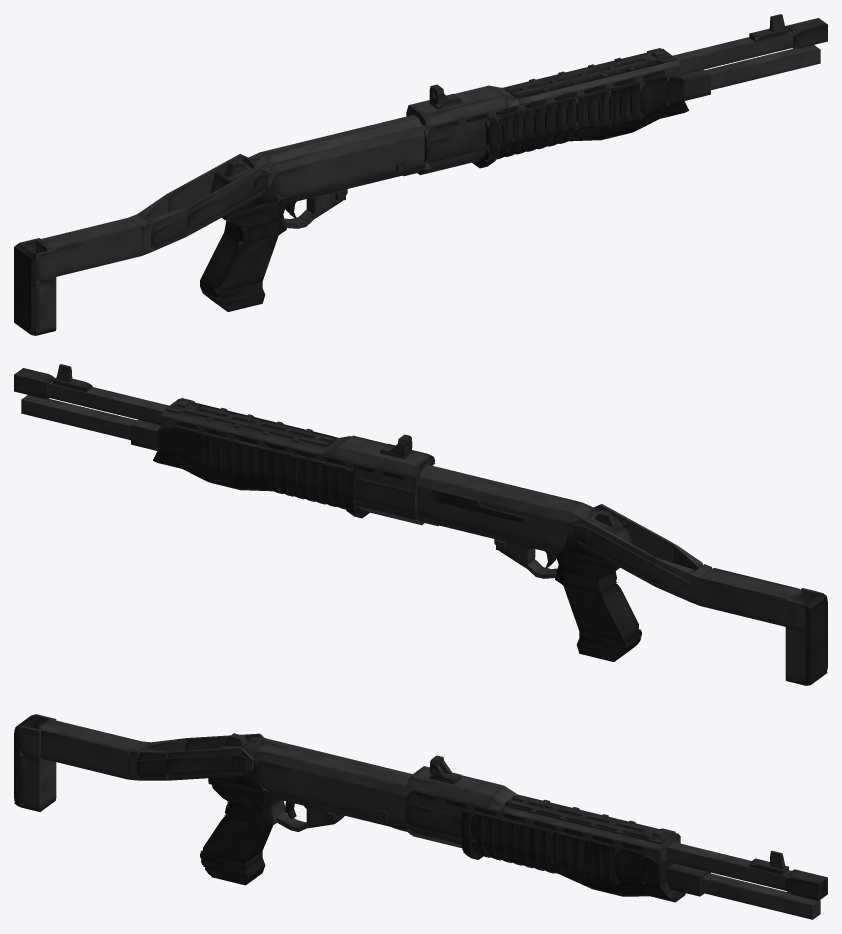
File: spas12.obj
3 renders of one model, top to bottom at view 1: azimuth 30°, elevation 25°; view 2: azimuth 150°, elevation 25°; view 3: azimuth 330°, elevation 25°, orthographic.
Visible parts, largest first — view 1: gunModel102, gunModel104, gunModel40, gunModel14, gunModel2, gunModel13, gunModel10, gunModel8, gunModel12, gunModel121, gunModel1, gunModel19 (+18 smaller); view 2: gunModel104, gunModel102, gunModel40, gunModel14, gunModel2, gunModel13, gunModel12, gunModel10, gunModel121, gunModel8, gunModel1, gunModel123 (+17 smaller); view 3: gunModel102, gunModel104, gunModel14, gunModel13, gunModel2, gunModel40, gunModel10, gunModel8, gunModel12, gunModel119, gunModel1, gunModel19 (+31 smaller).
Boxes of the visible parts, left/top/right/bottom form: gunModel102: left=270, top=136, right=425, bottom=199; gunModel104: left=35, top=218, right=141, bottom=276; gunModel40: left=200, top=232, right=278, bottom=292; gunModel14: left=705, top=45, right=820, bottom=90; gunModel2: left=260, top=114, right=424, bottom=164; gunModel13: left=673, top=30, right=801, bottom=74; gunModel10: left=502, top=48, right=680, bottom=104; gunModel8: left=406, top=66, right=680, bottom=169; gunModel12: left=406, top=85, right=506, bottom=127; gunModel121: left=14, top=243, right=36, bottom=334; gunModel1: left=264, top=127, right=425, bottom=173; gunModel19: left=496, top=97, right=575, bottom=146; gunModel104: left=700, top=568, right=806, bottom=626; gunModel102: left=417, top=486, right=569, bottom=549; gunModel40: left=563, top=583, right=641, bottom=642; gunModel14: left=21, top=395, right=136, bottom=440; gunModel2: left=419, top=464, right=581, bottom=514; gunModel13: left=48, top=380, right=168, bottom=424; gunModel12: left=335, top=435, right=435, bottom=477; gunModel10: left=161, top=398, right=338, bottom=454; gunModel121: left=805, top=593, right=827, bottom=684; gunModel8: left=161, top=416, right=419, bottom=519; gunModel1: left=417, top=477, right=572, bottom=523; gunModel123: left=356, top=477, right=415, bottom=513; gunModel102: left=255, top=762, right=407, bottom=825; gunModel104: left=37, top=719, right=141, bottom=779; gunModel14: left=701, top=873, right=820, bottom=919; gunModel13: left=666, top=842, right=792, bottom=891; gunModel2: left=255, top=738, right=414, bottom=787; gunModel40: left=200, top=816, right=273, bottom=862; gunModel10: left=500, top=794, right=680, bottom=850; gunModel8: left=406, top=790, right=680, bottom=883; gunModel12: left=406, top=766, right=503, bottom=808; gunModel119: left=19, top=755, right=56, bottom=809; gunModel1: left=254, top=751, right=411, bottom=796; gunModel19: left=470, top=811, right=553, bottom=859.
Bounding box in the file's own units: 29.9 × 5.9 × 1.8.
